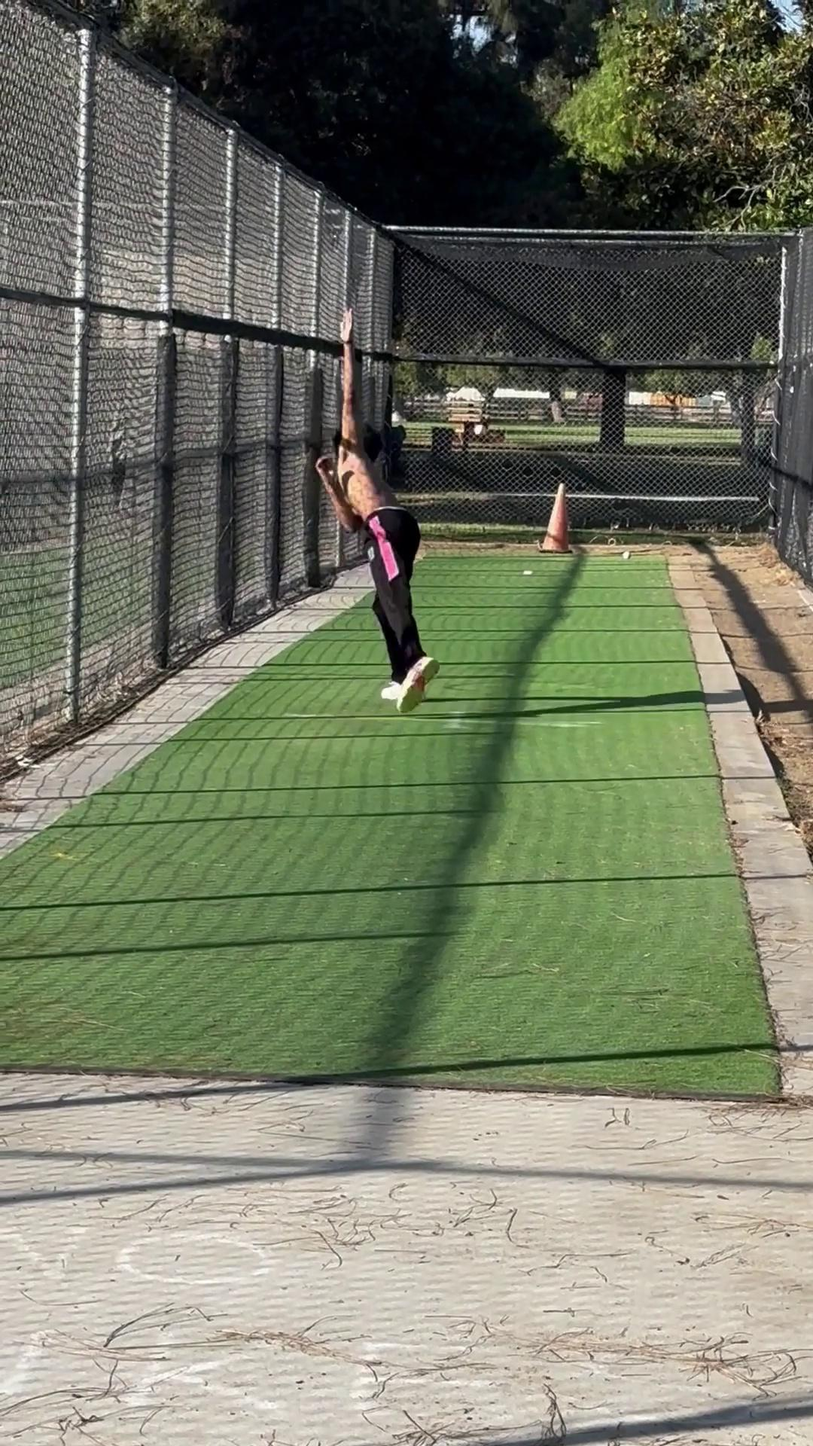ball: (470, 420, 491, 440)
